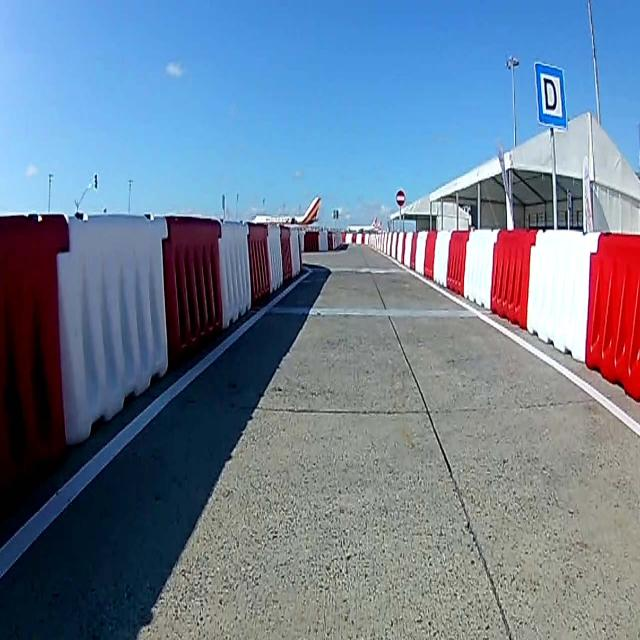durak: (534, 61, 568, 130)
girisyok: (396, 188, 406, 208)
